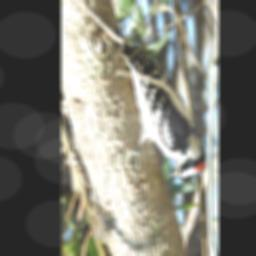Woodpecker: (120, 41, 206, 181)
